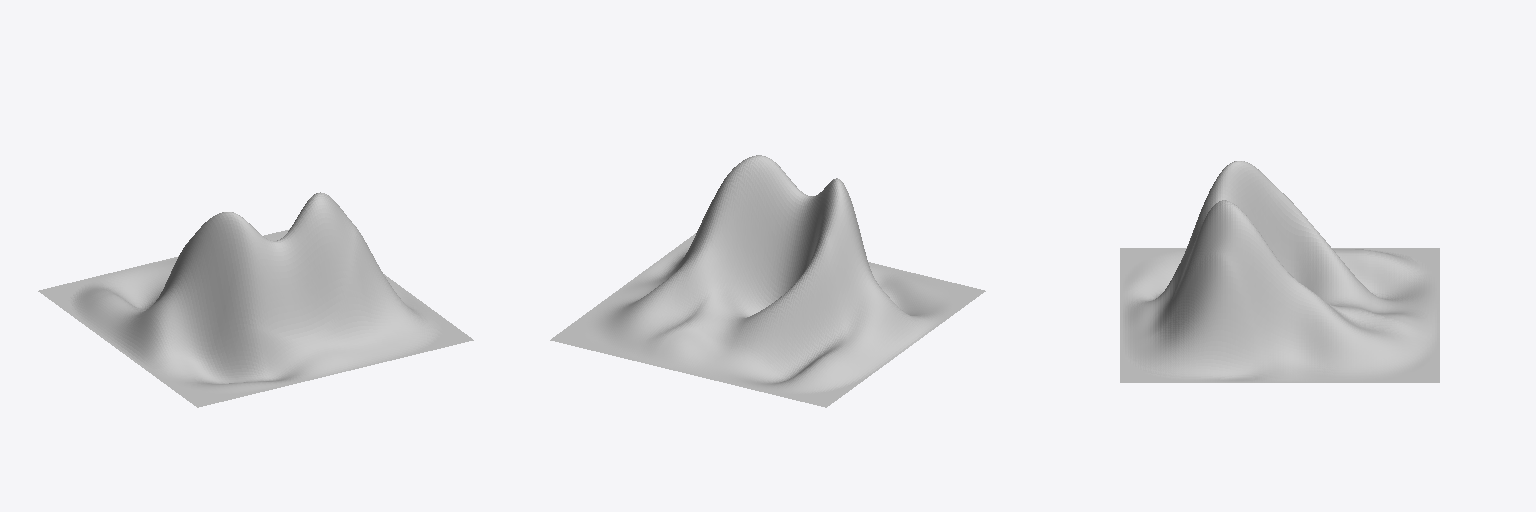
The model's file is iceberg1.obj.
3 renders of one model, left to right at view 1: azimuth 30°, elevation 25°; view 2: azimuth 150°, elevation 25°; view 3: azimuth 270°, elevation 25°, orthographic.
Parts seen in each view (by area): view 1: Landscape; view 2: Landscape; view 3: Landscape.
Boxes of the visible parts, x1,y1,x2,y2 form: Landscape: [38, 192, 473, 407]; Landscape: [550, 155, 985, 407]; Landscape: [1120, 161, 1439, 382].
Size of the model in its own units: 2 by 0.9919 by 2.